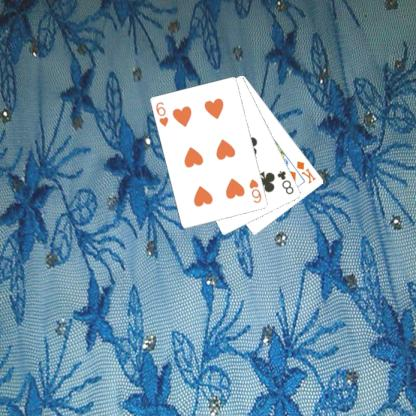6H: (247, 176, 264, 204), (154, 100, 170, 127)
8C: (274, 168, 295, 196)
KD: (294, 158, 317, 185)
